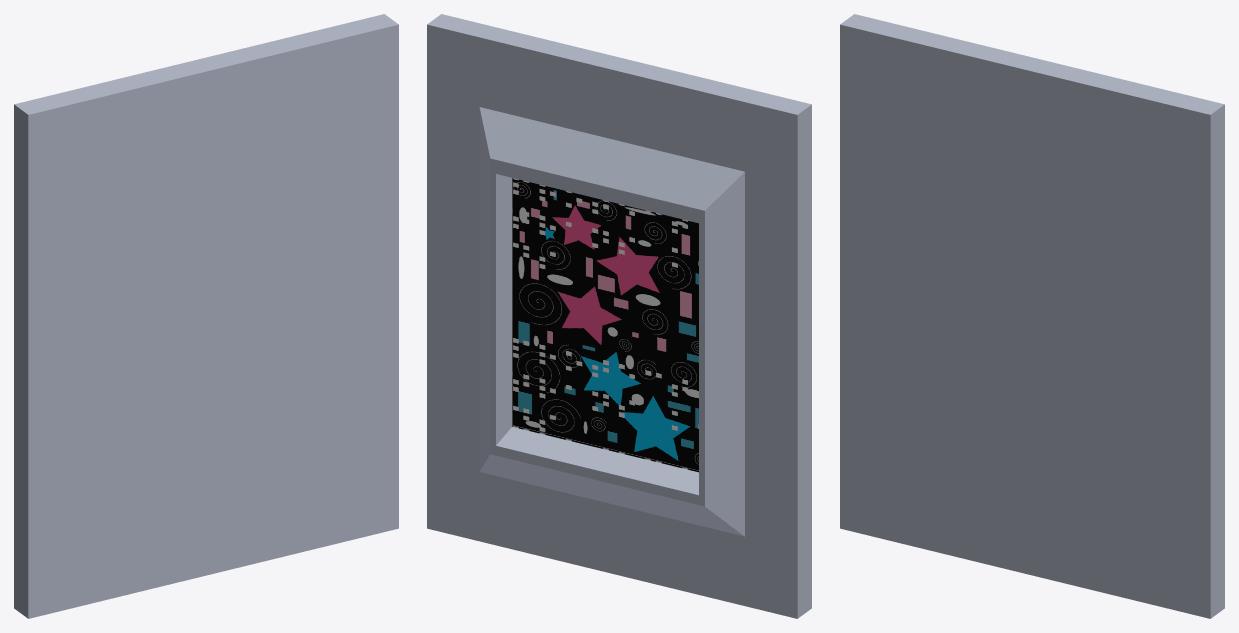
File: Pattern_Art.fbx
3 renders of one model, left to right at view 1: azimuth 30°, elevation 25°; view 2: azimuth 150°, elevation 25°; view 3: azimuth 330°, elevation 25°, orthographic.
Parts seen in each view (by area): view 1: Pattern; view 2: Pattern, Image.009; view 3: Pattern.
Part boxes in pixels (x1=…): Pattern: x1=14, y1=14, x2=398, y2=618; Pattern: x1=427, y1=14, x2=811, y2=618; Image.009: x1=512, y1=178, x2=698, y2=472; Pattern: x1=840, y1=14, x2=1224, y2=618.
Bounding box in the file's own units: 963 × 1252 × 131.
2 materials, 1 textured.
